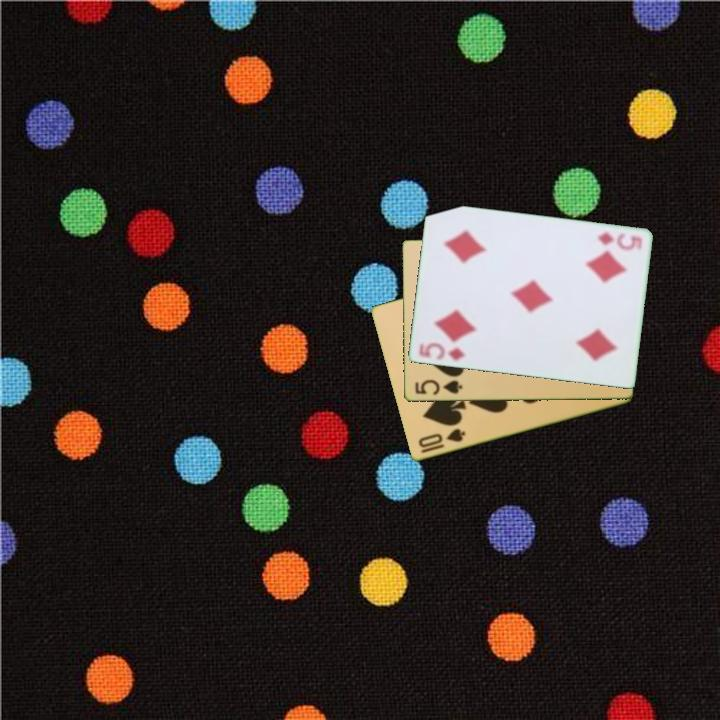10s: (415, 425, 468, 451)
5d: (415, 339, 468, 364), (593, 229, 645, 254)
5s: (411, 376, 465, 398)
